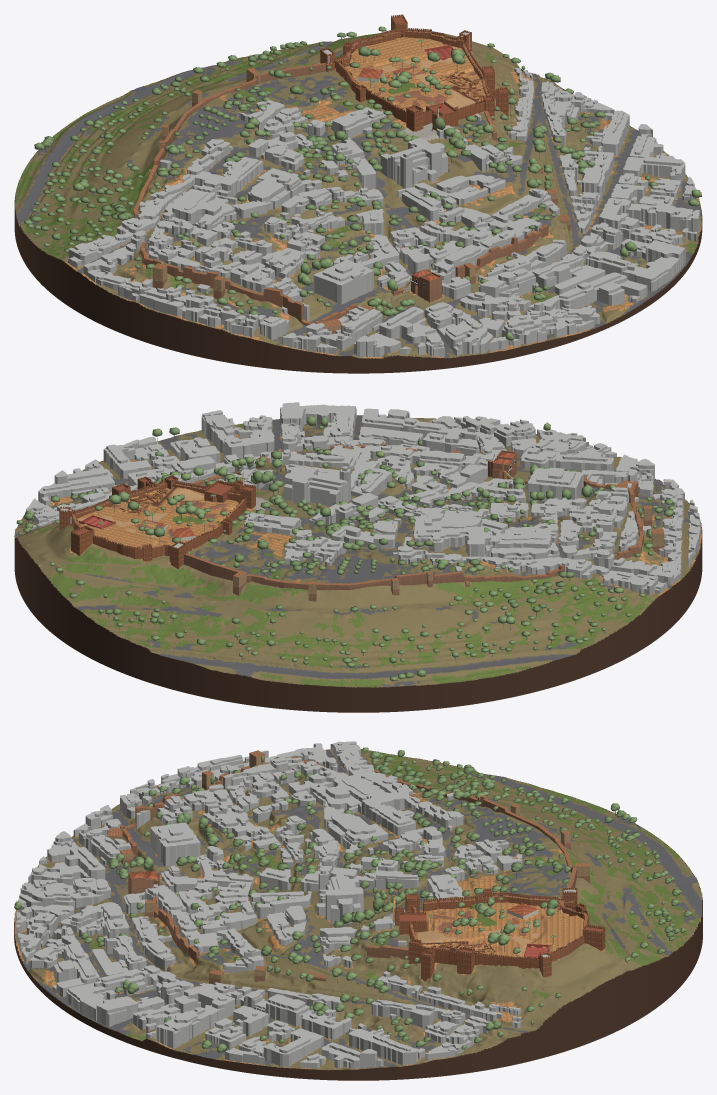
The model's file is silves.glb.
3 renders of one model, top to bottom at view 1: azimuth 30°, elevation 25°; view 2: azimuth 150°, elevation 25°; view 3: azimuth 270°, elevation 25°, orthographic.
Visible parts, largest first — view 1: vila, Terreno, arvores, base, cerca_vila, alcacova_panos, torres_vila, torres; view 2: Terreno, vila, base, arvores, cerca_vila, alcacova_panos, torres, torres_vila, casa_guarda; view 3: vila, Terreno, arvores, base, alcacova_panos, cerca_vila, torres, torres_vila, casa_guarda.
Part boxes in pixels (left/top/right/bottom): vila: left=68, top=32, right=699, bottom=358; Terreno: left=14, top=32, right=702, bottom=358; arvores: left=24, top=26, right=701, bottom=347; base: left=14, top=37, right=702, bottom=373; cerca_vila: left=133, top=63, right=548, bottom=325; alcacova_panos: left=325, top=28, right=491, bottom=125; torres_vila: left=148, top=67, right=570, bottom=333; torres: left=320, top=14, right=508, bottom=131; Terreno: left=14, top=415, right=702, bottom=687; vila: left=25, top=402, right=700, bottom=595; base: left=14, top=415, right=702, bottom=712; arvores: left=16, top=416, right=675, bottom=683; cerca_vila: left=184, top=443, right=643, bottom=590; alcacova_panos: left=71, top=480, right=246, bottom=561; torres: left=59, top=475, right=255, bottom=569; torres_vila: left=209, top=450, right=664, bottom=601; casa_guarda: left=204, top=480, right=234, bottom=502; vila: left=16, top=741, right=575, bottom=1069; Terreno: left=14, top=749, right=702, bottom=1070; arvores: left=14, top=747, right=692, bottom=1057; base: left=14, top=749, right=702, bottom=1080; alcacova_panos: left=409, top=892, right=589, bottom=968; cerca_vila: left=120, top=756, right=576, bottom=961; torres: left=394, top=887, right=605, bottom=981; torres_vila: left=107, top=750, right=589, bottom=983; casa_guarda: left=399, top=911, right=426, bottom=934.
Bounding box in the file's own units: 489 × 67.45 × 489.
Materials: 32 (10 with a texture image).
